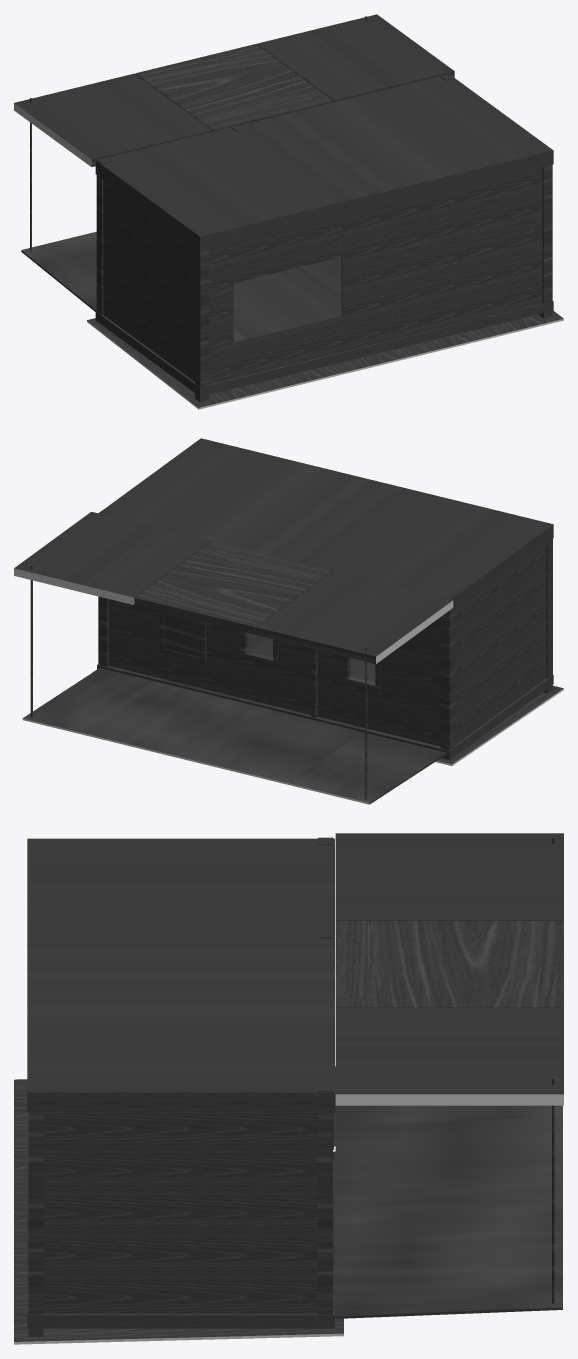
File: PortaCabin.obj
3 views of the same model, one above another, from view 1: azimuth 30°, elevation 25°; view 2: azimuth 150°, elevation 25°; view 3: azimuth 270°, elevation 25° (orthographic). The views are drawn at different scales.
Parts seen in each view (by area): view 1: Object.4, Object.3; view 2: Object.4, Object.3; view 3: Object.4, Object.3.
Boxes of the visible parts, x1,y1,x2,y2 form: Object.4: (14, 14, 563, 409); Object.3: (135, 44, 333, 131); Object.4: (14, 438, 563, 804); Object.3: (135, 541, 332, 634); Object.4: (14, 833, 563, 1344); Object.3: (335, 920, 563, 1007).
Size of the model in its own units: 115 by 52.08 by 102.
